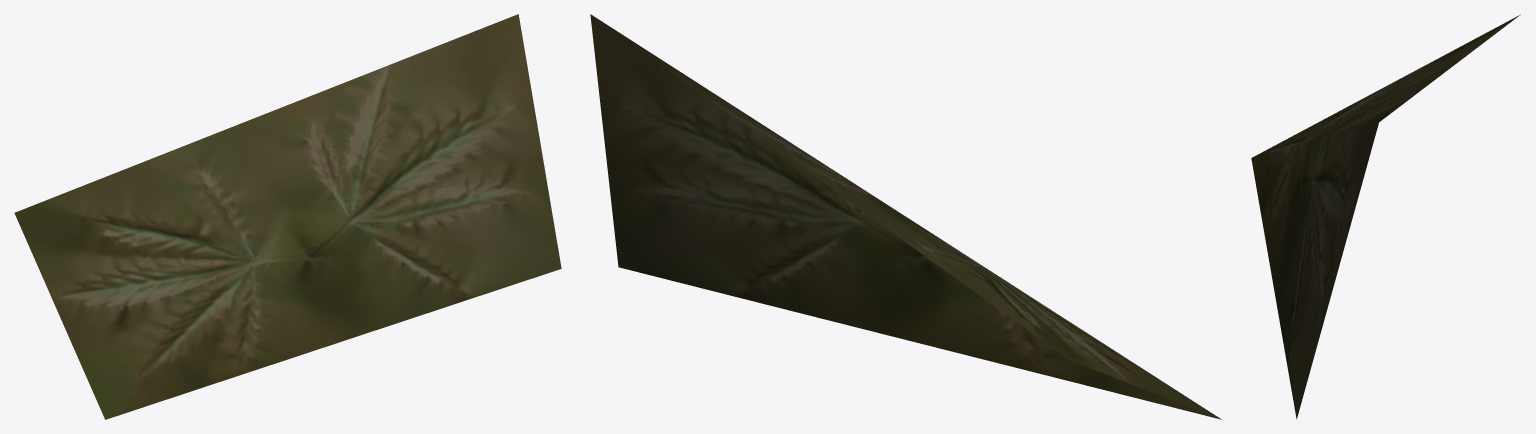
Rendered from TI_Bush_01_part_04.fbx.
3 renders of one model, left to right at view 1: azimuth 30°, elevation 25°; view 2: azimuth 150°, elevation 25°; view 3: azimuth 270°, elevation 25°, orthographic. The views are drawn at different scales.
Parts seen in each view (by area): view 1: TI_Bush_01_part_04; view 2: TI_Bush_01_part_04; view 3: TI_Bush_01_part_04.
Part boxes in pixels (x1,y1,x2,y2): TI_Bush_01_part_04: (14,14,561,419); TI_Bush_01_part_04: (590,14,1221,419); TI_Bush_01_part_04: (1251,14,1520,419).
Size of the model in its own units: 0.5244 by 0.2695 by 0.207.
